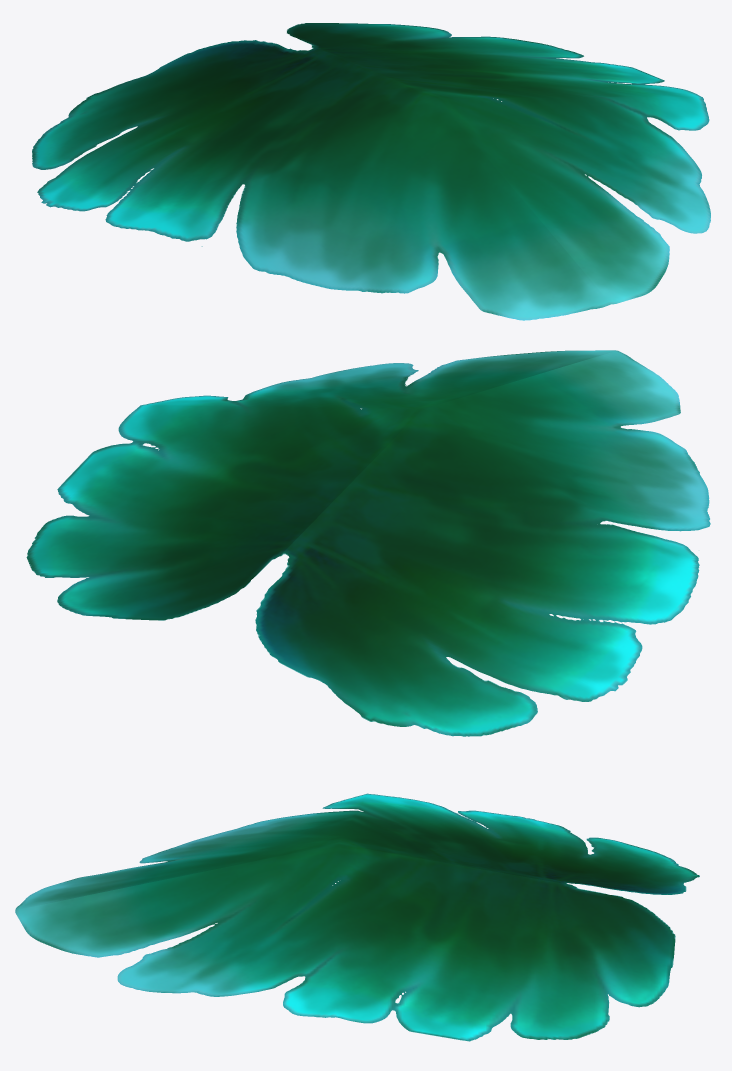
File: Avatar_leaf_01.fbx
The picture shows the model from 3 angles, top to bottom: view 1: azimuth 30°, elevation 25°; view 2: azimuth 150°, elevation 25°; view 3: azimuth 270°, elevation 25°; orthographic projection. The views are drawn at different scales.
Visible parts, largest first — view 1: Avatar_leaf_01; view 2: Avatar_leaf_01; view 3: Avatar_leaf_01.
Boxes of the visible parts, box(x1,y1,x2,y2) form: Avatar_leaf_01: box(32, 23, 710, 320); Avatar_leaf_01: box(26, 350, 710, 736); Avatar_leaf_01: box(15, 793, 699, 1041).
Bounding box in the file's own units: 130 × 27.35 × 151.
